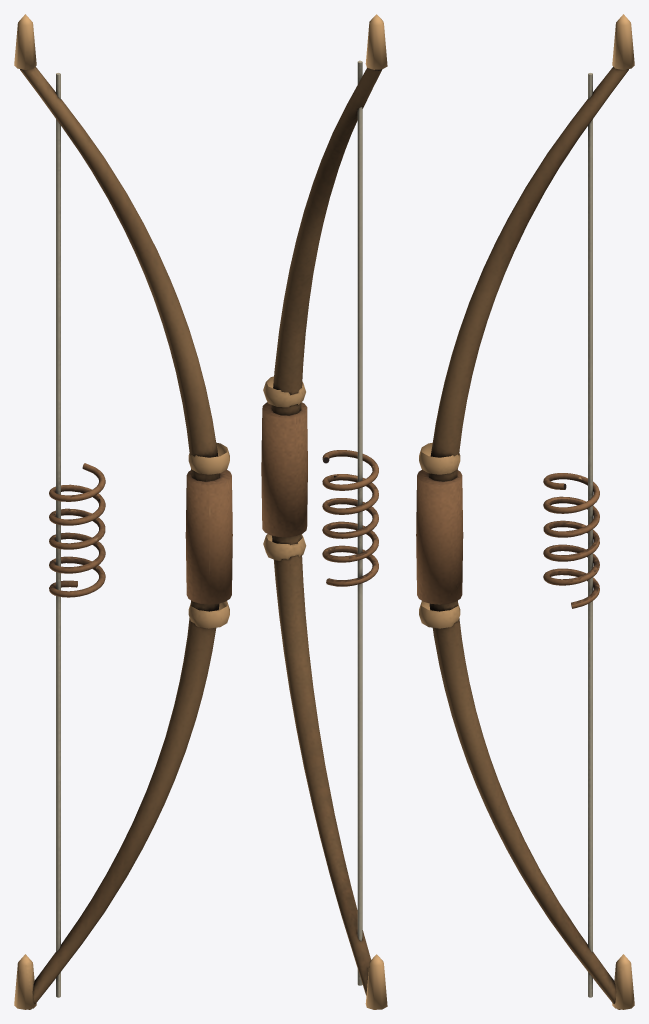
File: arma_arco_curto_refinada.glb
The picture shows the model from 3 angles, left to right: view 1: azimuth 90°, elevation 25°; view 2: azimuth 210°, elevation 25°; view 3: azimuth 270°, elevation 25°; orthographic projection.
Parts seen in each view (by area): view 1: arma_arco_curto_refinada; view 2: arma_arco_curto_refinada; view 3: arma_arco_curto_refinada.
Part boxes in pixels (x1=…): arma_arco_curto_refinada: x1=14, y1=14, x2=232, y2=1009; arma_arco_curto_refinada: x1=261, y1=14, x2=387, y2=1009; arma_arco_curto_refinada: x1=416, y1=14, x2=634, y2=1009.
Size of the model in its own units: 0.0606 by 1.16 by 0.232.
1 material, 1 textured.
